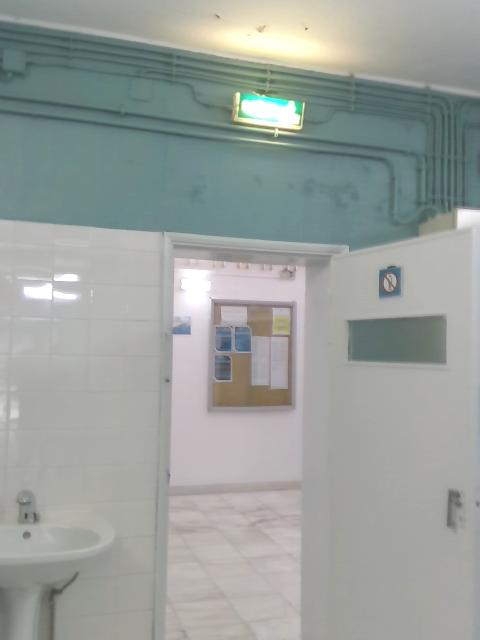open_door: (158, 230, 348, 638)
